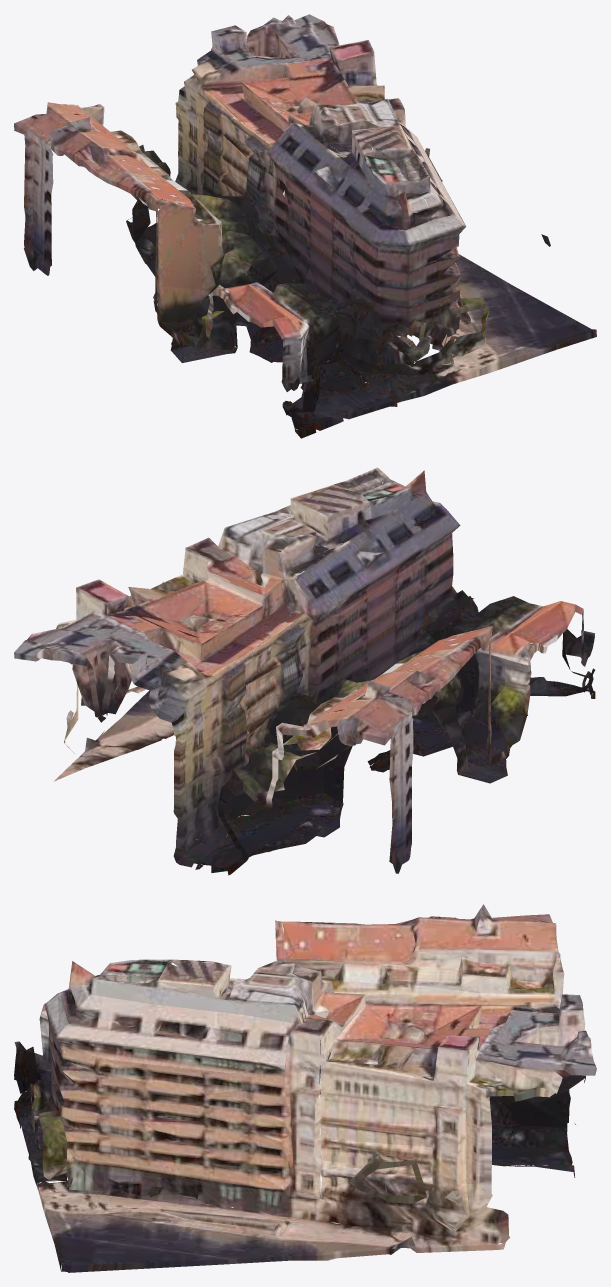
3 views of the same model, one above another, from view 1: azimuth 30°, elevation 25°; view 2: azimuth 150°, elevation 25°; view 3: azimuth 270°, elevation 25° (orthographic). The views are drawn at different scales.
Visible parts, largest first — view 1: Mesh_0; view 2: Mesh_0; view 3: Mesh_0.
Boxes of the visible parts, x1=… form: Mesh_0: x1=14, y1=14, x2=596, y2=438; Mesh_0: x1=14, y1=467, x2=595, y2=875; Mesh_0: x1=14, y1=904, x2=596, y2=1272.
Size of the model in its own units: 66.54 by 35.98 by 82.59.
1 material, 1 textured.
